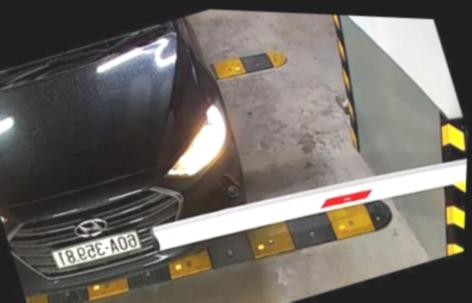License_Plate: (47, 227, 139, 279)
